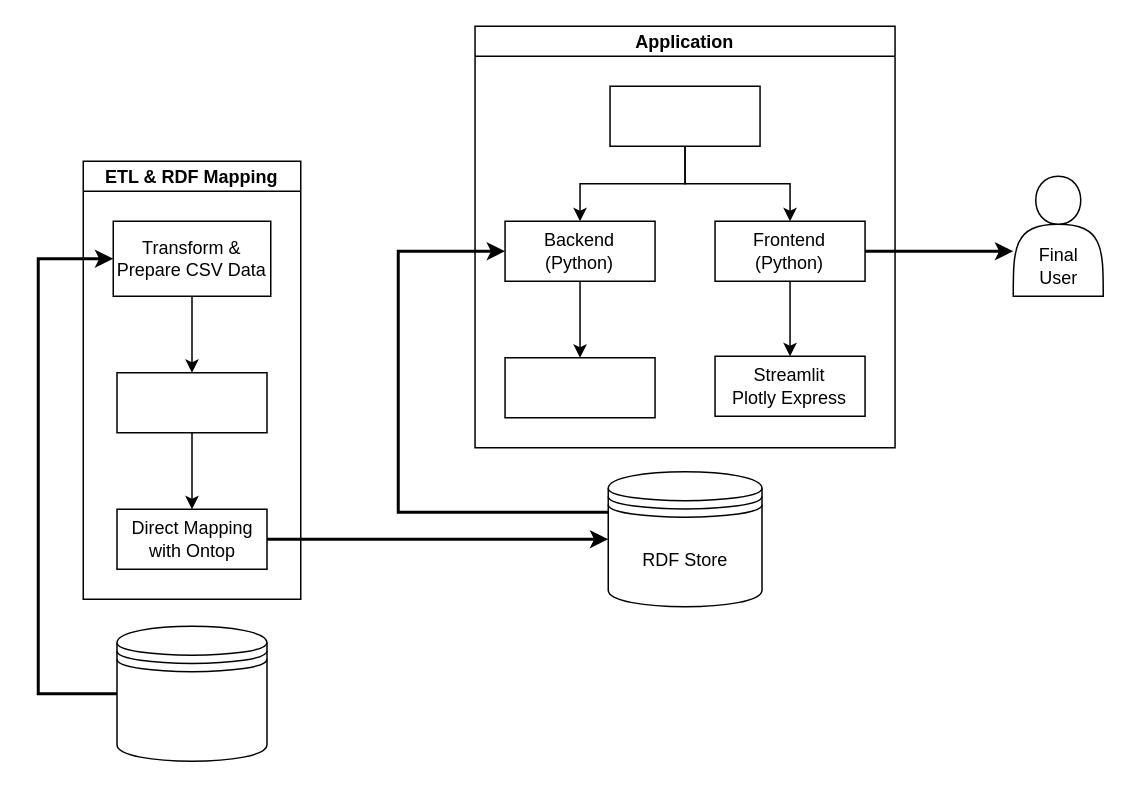
Some shapes in this 1130 by 788 pixel diagram are drawn without their labels. The shapes that lost their labels are listed below. From the top down, each one's centre as x and y in pixels, then its label:
At pixel 684 115: "Architecture".
At pixel 191 402: "Create PostgreSQL DB & Upload CSV Data".
At pixel 579 387: "RDFLib SPARQL Pandas".
At pixel 191 693: "CSV Data".
